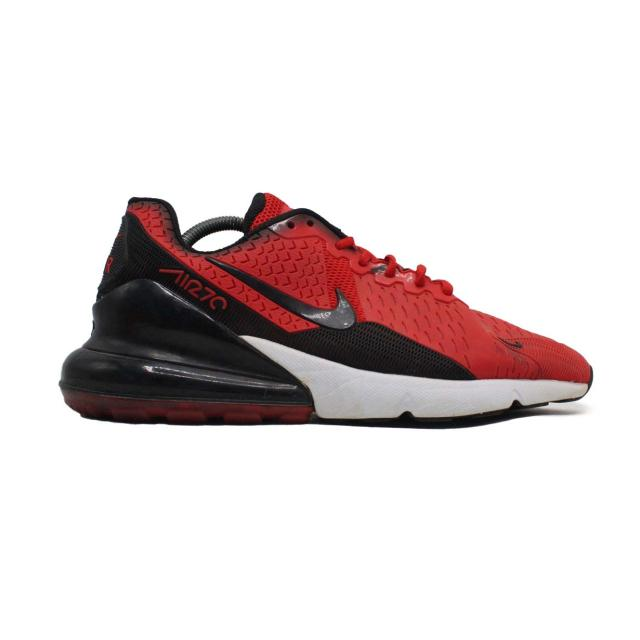heel: (91, 197, 154, 320)
midsole: (59, 319, 588, 423)
uppersole: (111, 192, 592, 384)
